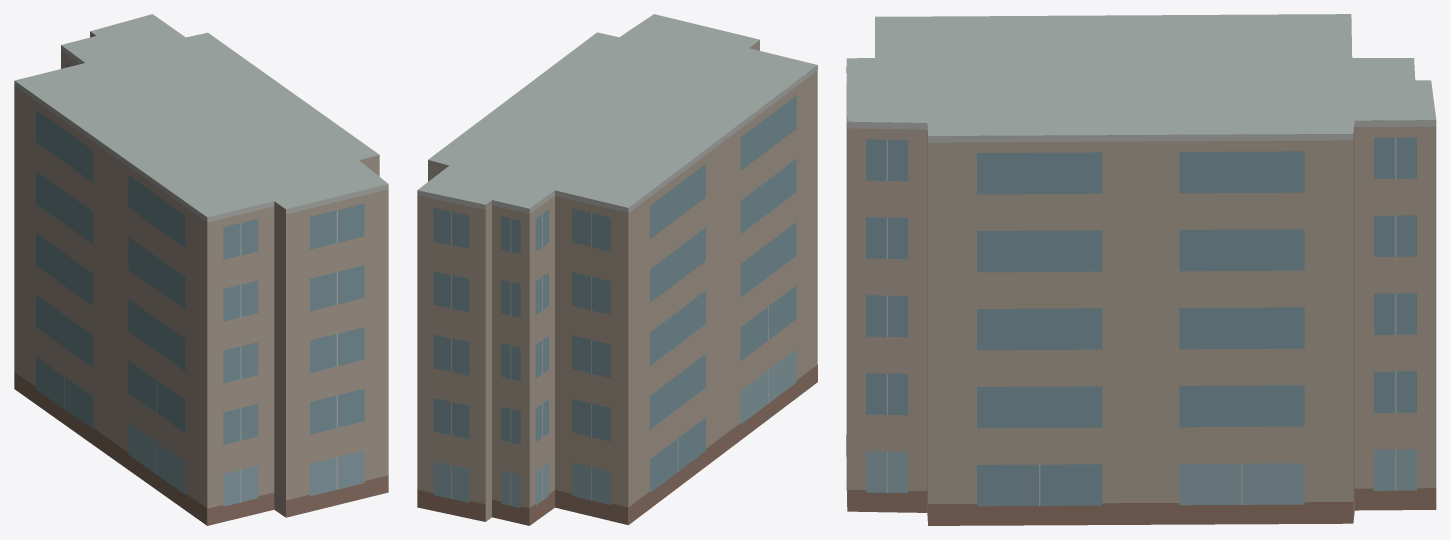
The model's file is survey-upis-32874556.glb.
The picture shows the model from 3 angles, left to right: view 1: azimuth 30°, elevation 25°; view 2: azimuth 150°, elevation 25°; view 3: azimuth 270°, elevation 25°; orthographic projection. The views are drawn at different scales.
Parts seen in each view (by area): view 1: survey-upis-32874556.tmp; view 2: survey-upis-32874556.tmp; view 3: survey-upis-32874556.tmp.
Part boxes in pixels (<box>): survey-upis-32874556.tmp: <box>14,14,388,525</box>; survey-upis-32874556.tmp: <box>417,14,817,525</box>; survey-upis-32874556.tmp: <box>846,14,1436,525</box>.
Bounding box in the file's own units: 9.75 × 14.5 × 19.9.
